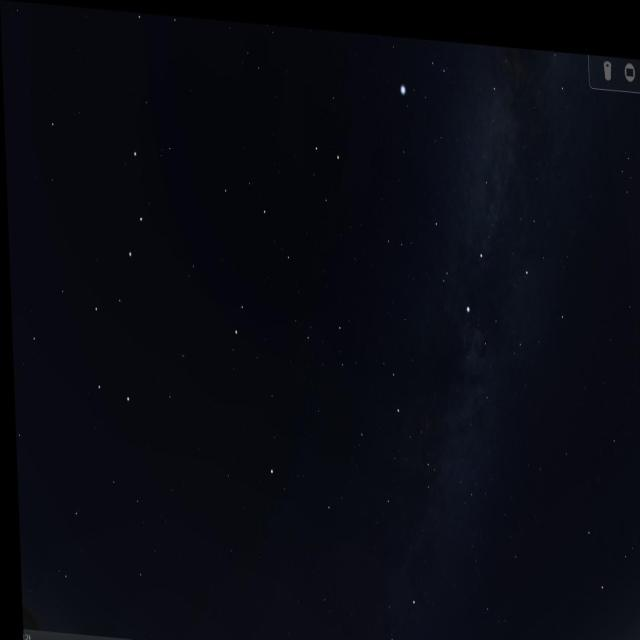cassiopeia: (332, 553, 432, 640)
cygnus: (427, 87, 531, 320)
ursa_major: (79, 121, 157, 402)
